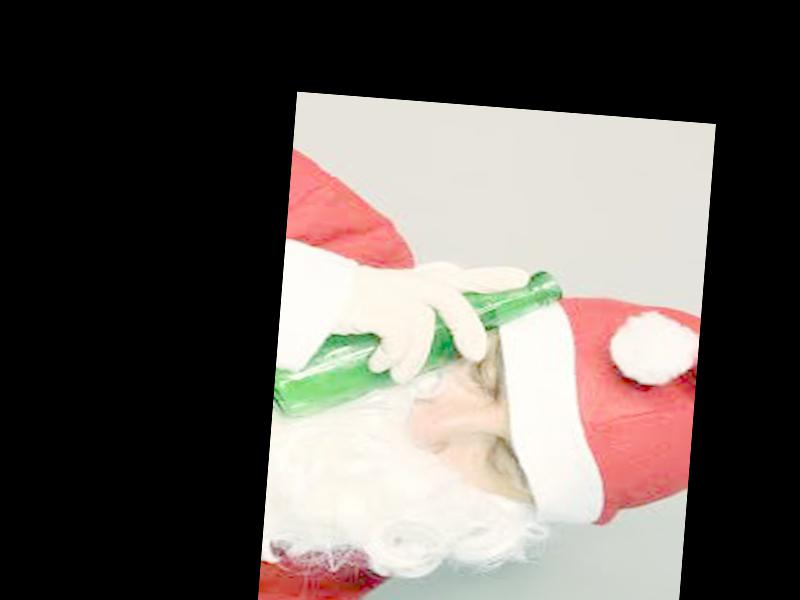Beer: (271, 249, 561, 434)
